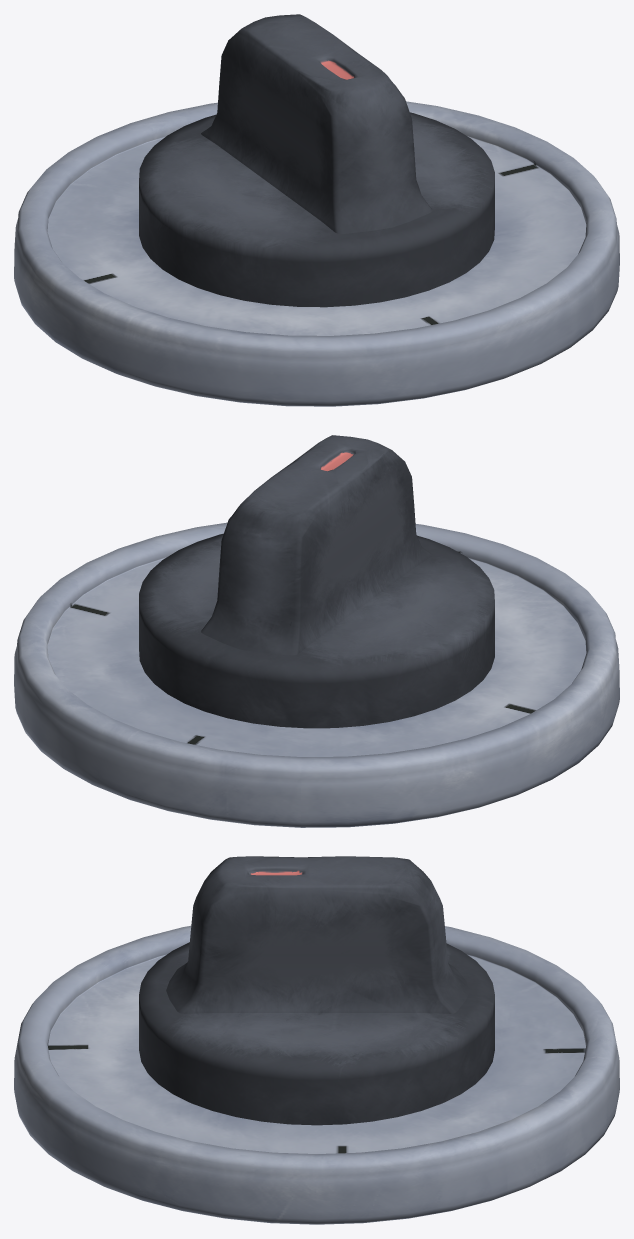
The model's file is OvenKnob_model.fbx.
The picture shows the model from 3 angles, top to bottom: view 1: azimuth 30°, elevation 25°; view 2: azimuth 150°, elevation 25°; view 3: azimuth 270°, elevation 25°; orthographic projection.
Parts seen in each view (by area): view 1: OvenKnobStaticBit, OvenKnobTurnyBit; view 2: OvenKnobStaticBit, OvenKnobTurnyBit; view 3: OvenKnobStaticBit, OvenKnobTurnyBit.
Boxes of the visible parts, x1,y1,x2,y2 form: OvenKnobStaticBit: (14,101,619,406); OvenKnobTurnyBit: (139,14,494,307); OvenKnobStaticBit: (14,522,619,827); OvenKnobTurnyBit: (139,435,494,728); OvenKnobStaticBit: (14,925,619,1224); OvenKnobTurnyBit: (139,856,494,1125).
Size of the model in its own units: 21.78 by 9.11 by 21.78.
2 materials, 2 textured.
